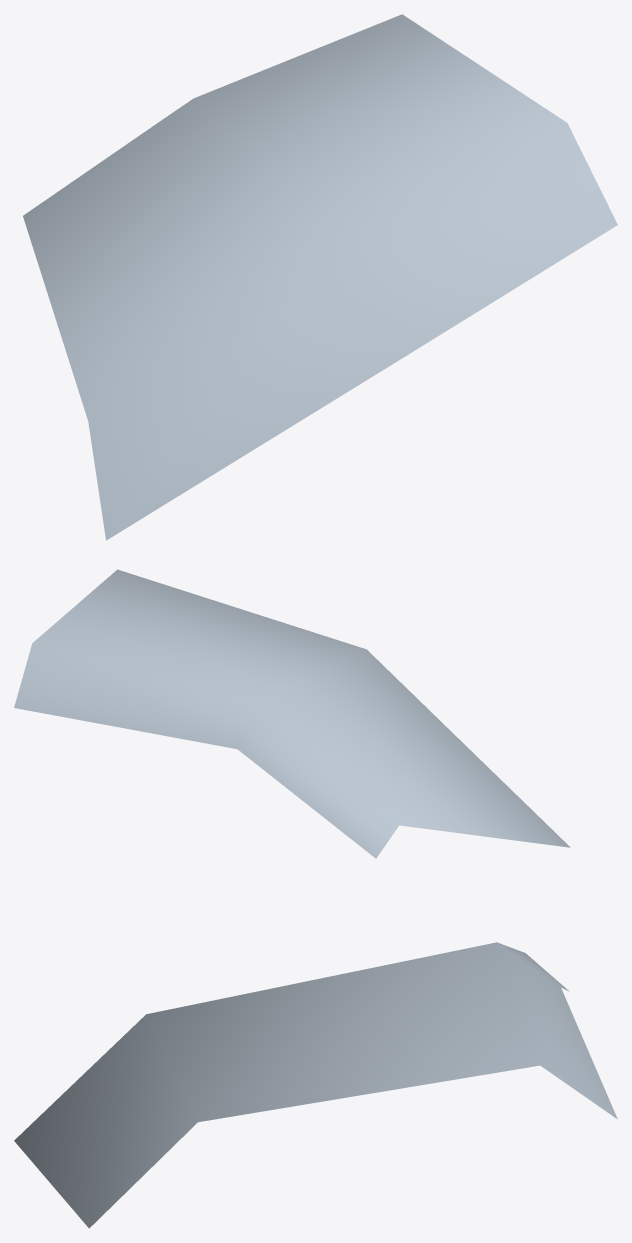
File: talonavicular-ligament-l.glb
The picture shows the model from 3 angles, top to bottom: view 1: azimuth 30°, elevation 25°; view 2: azimuth 150°, elevation 25°; view 3: azimuth 270°, elevation 25°; orthographic projection. The views are drawn at different scales.
Parts seen in each view (by area): view 1: Talonavicular ligament.l; view 2: Talonavicular ligament.l; view 3: Talonavicular ligament.l.
Boxes of the visible parts, x1=… form: Talonavicular ligament.l: x1=23, y1=14, x2=617, y2=540; Talonavicular ligament.l: x1=14, y1=569, x2=570, y2=858; Talonavicular ligament.l: x1=14, y1=942, x2=617, y2=1228.
Bounding box in the file's own units: 0.0144 × 0.00803 × 0.0111.
